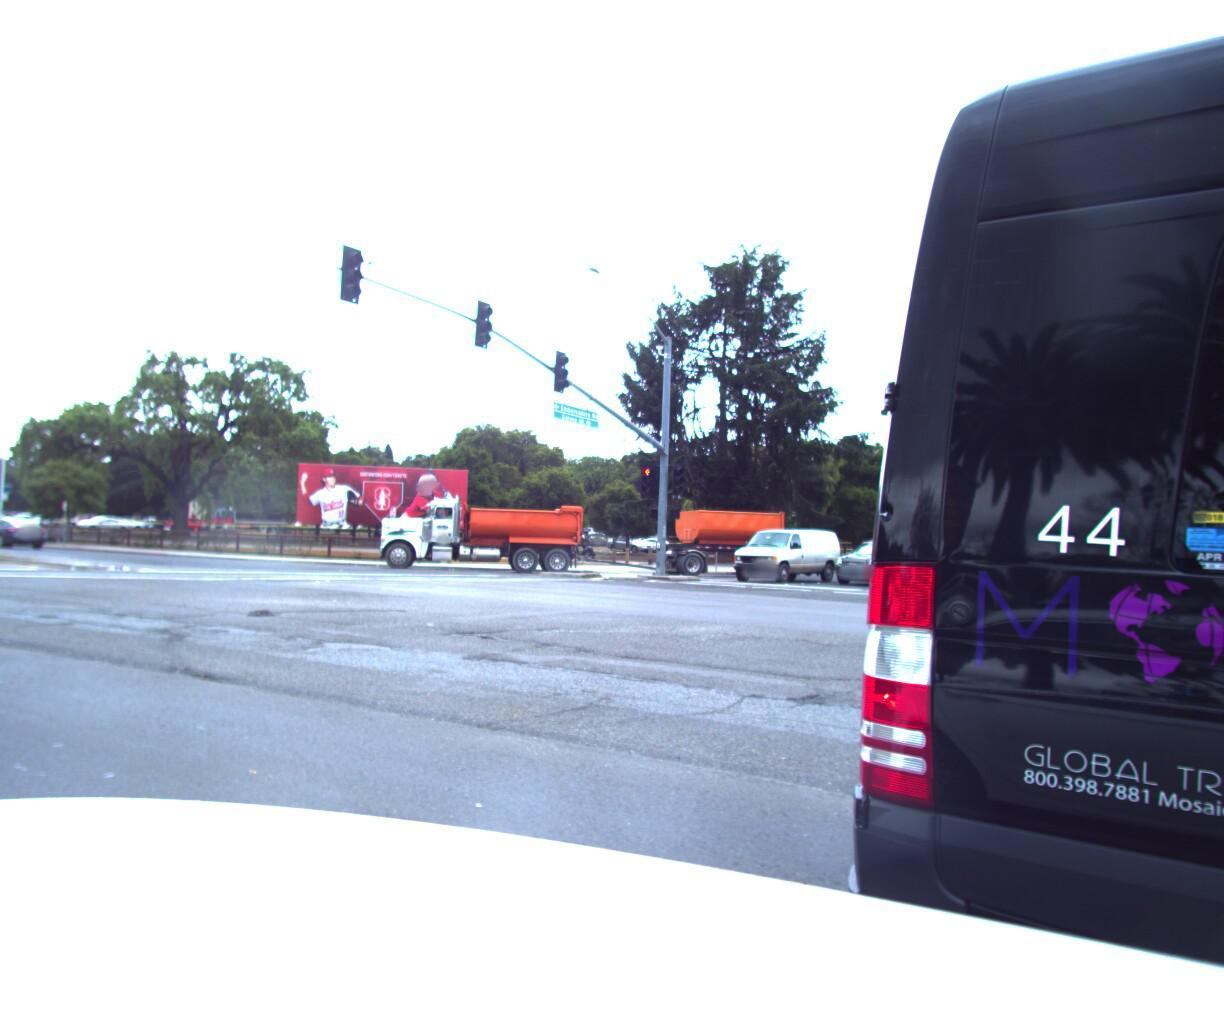car: (723, 524, 845, 586), (822, 535, 936, 589), (0, 516, 53, 549)
truck: (370, 487, 648, 580), (650, 504, 816, 580)
